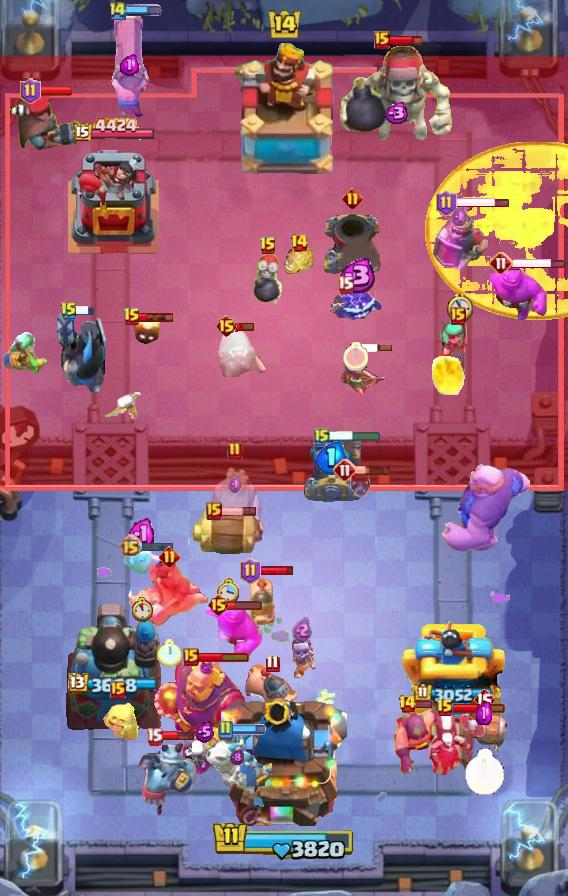archer: (337, 353, 387, 399)
bandit: (218, 325, 270, 377)
bar: (511, 257, 566, 270), (455, 196, 510, 209), (328, 430, 381, 443), (453, 702, 506, 714), (197, 651, 250, 663), (388, 34, 423, 47), (355, 464, 392, 476), (38, 85, 74, 97), (126, 4, 162, 16), (160, 730, 195, 742), (139, 540, 174, 552), (258, 565, 295, 576), (220, 506, 257, 517), (230, 724, 266, 735), (227, 600, 263, 611), (139, 312, 174, 323), (357, 343, 393, 353), (76, 305, 95, 317), (235, 321, 255, 332), (414, 699, 433, 709)
bar-level: (333, 458, 357, 482), (489, 251, 513, 275), (207, 593, 230, 617), (215, 314, 238, 338), (240, 558, 261, 584), (436, 190, 457, 216), (20, 78, 41, 104), (119, 534, 142, 557), (473, 687, 495, 711), (159, 546, 180, 567), (342, 188, 363, 209), (108, 0, 128, 21), (398, 694, 417, 714), (290, 233, 309, 253), (436, 698, 454, 718), (123, 307, 141, 327), (60, 301, 78, 321), (259, 236, 277, 256), (146, 727, 163, 746), (337, 275, 354, 294), (217, 720, 233, 740), (227, 441, 243, 461), (314, 427, 330, 447), (110, 681, 126, 699), (183, 648, 199, 666), (206, 502, 222, 520), (450, 307, 466, 325), (374, 31, 390, 49), (265, 654, 280, 673)
barbarian-barrel: (191, 508, 267, 558)
bat: (349, 474, 373, 500)
bomber: (251, 252, 285, 308)
cannoneer-tower: (64, 601, 164, 731)
clock: (464, 748, 505, 796), (447, 293, 473, 322), (343, 342, 368, 371), (157, 639, 182, 667), (217, 577, 241, 604), (130, 597, 154, 622)
electro-spirit: (327, 282, 383, 322)
elixir: (334, 258, 377, 293), (316, 441, 348, 475), (127, 518, 157, 551), (382, 102, 409, 124), (292, 617, 312, 643), (195, 721, 214, 743), (120, 54, 139, 76), (451, 206, 469, 228), (476, 702, 492, 725), (228, 475, 243, 494), (230, 749, 244, 766)
elixir-golem-mid: (480, 266, 548, 322), (206, 603, 262, 661)
executioner: (393, 706, 447, 776)
fire-spirit: (133, 317, 161, 347)
heal-spirit: (97, 699, 139, 743)
hunter: (8, 92, 84, 152)
ice-spirit: (123, 544, 161, 578)
king-tower: (221, 690, 347, 826), (228, 41, 340, 181)
king-tower-bar: (212, 820, 356, 862)
lava-pup: (281, 246, 317, 278)
mega-minion: (136, 739, 196, 817)
mortar: (321, 210, 383, 278), (302, 438, 362, 502)
night-witch: (425, 707, 489, 779)
queen-tower: (399, 617, 507, 731), (64, 146, 164, 256)
rascal-girl: (435, 321, 481, 377)
royal-ghost: (207, 465, 263, 531)
royal-hog: (245, 664, 299, 714), (247, 573, 279, 631)
royal-recruit: (430, 199, 491, 275)
skeleton: (96, 391, 144, 423)
skeleton-evolution: (286, 638, 318, 678)
spear-goblin: (0, 331, 50, 375)
tower-bar: (72, 117, 156, 144), (68, 673, 160, 696), (414, 683, 493, 703)
wall-breaker: (459, 713, 509, 755)
